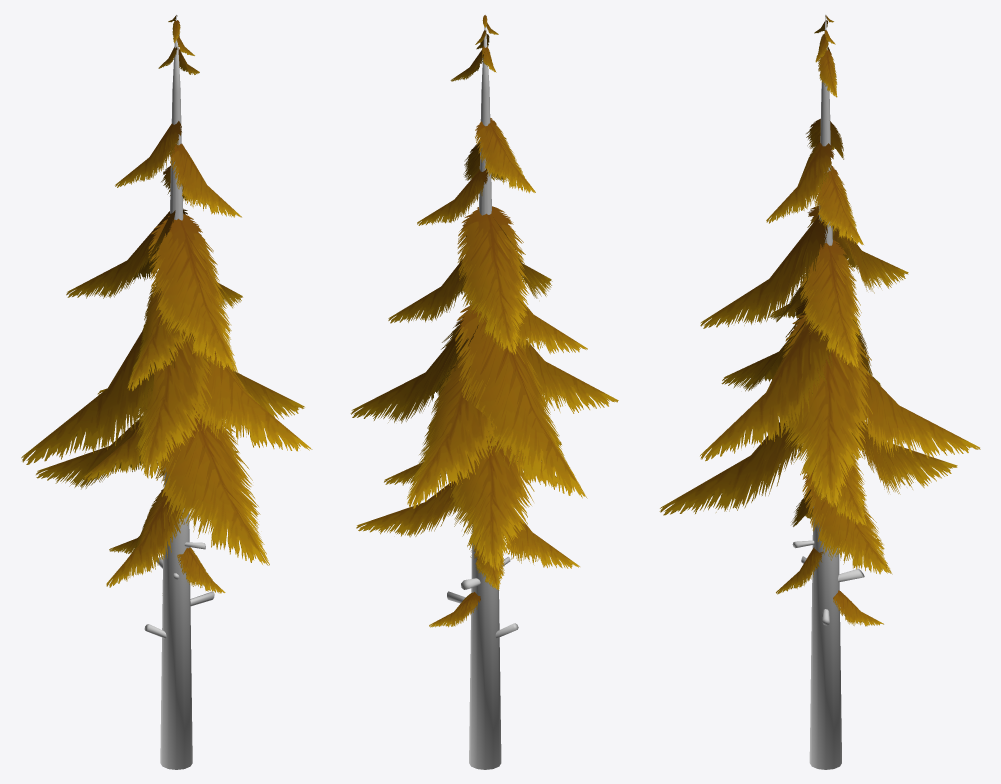
The model's file is HerfstTree1.fbx.
3 views of the same model, side by side, from view 1: azimuth 30°, elevation 25°; view 2: azimuth 150°, elevation 25°; view 3: azimuth 270°, elevation 25° (orthographic).
Parts seen in each view (by area): view 1: HerfstTree1; view 2: HerfstTree1; view 3: HerfstTree1.
Boxes of the visible parts, x1,y1,x2,y2 form: HerfstTree1: (21, 14, 312, 769); HerfstTree1: (350, 14, 618, 769); HerfstTree1: (659, 14, 980, 769).
Size of the model in its own units: 6.07 by 16.09 by 6.5.
